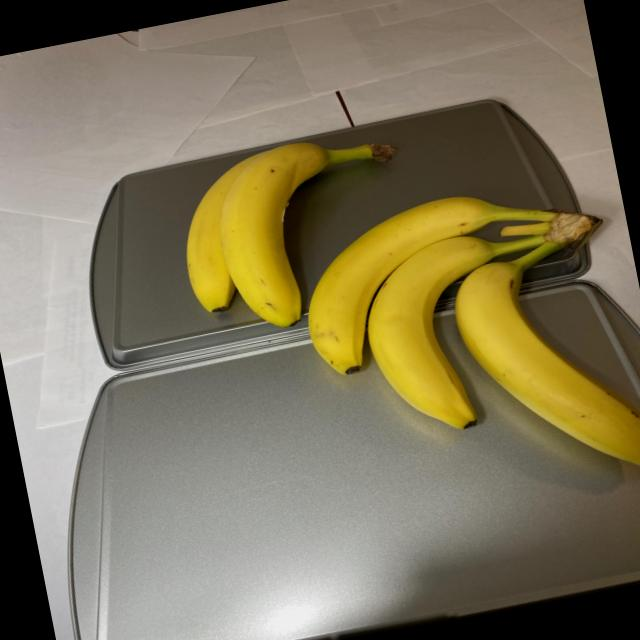banana: (167, 84, 640, 556)
